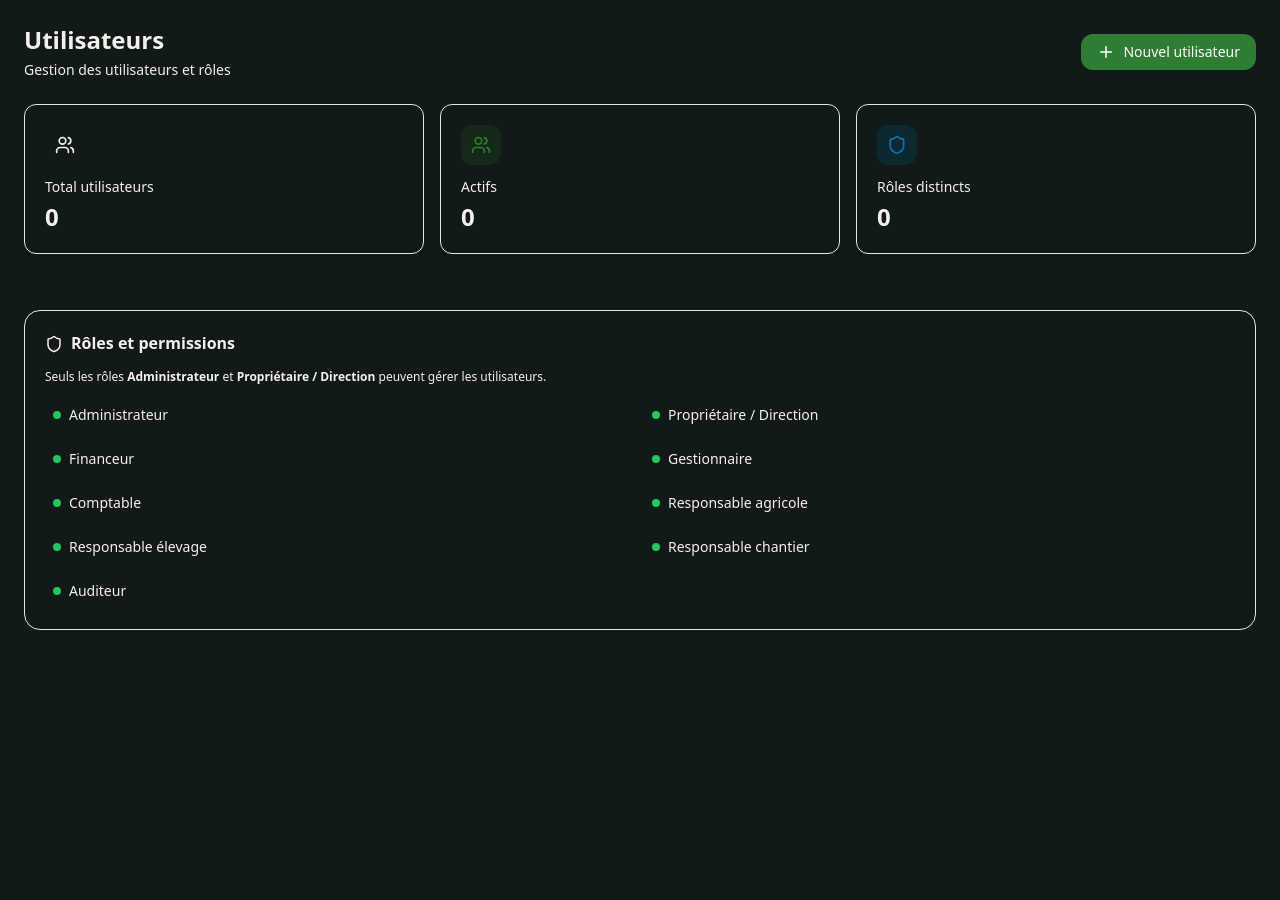
Test case: UsersPage — création utilisateur avec site › TEST 3 — aucun site accessible bloque la création et affiche un message
Click the button "Nouvel utilisateur". click: click(1169, 52)
box: left=1082, top=34, right=1256, bottom=70
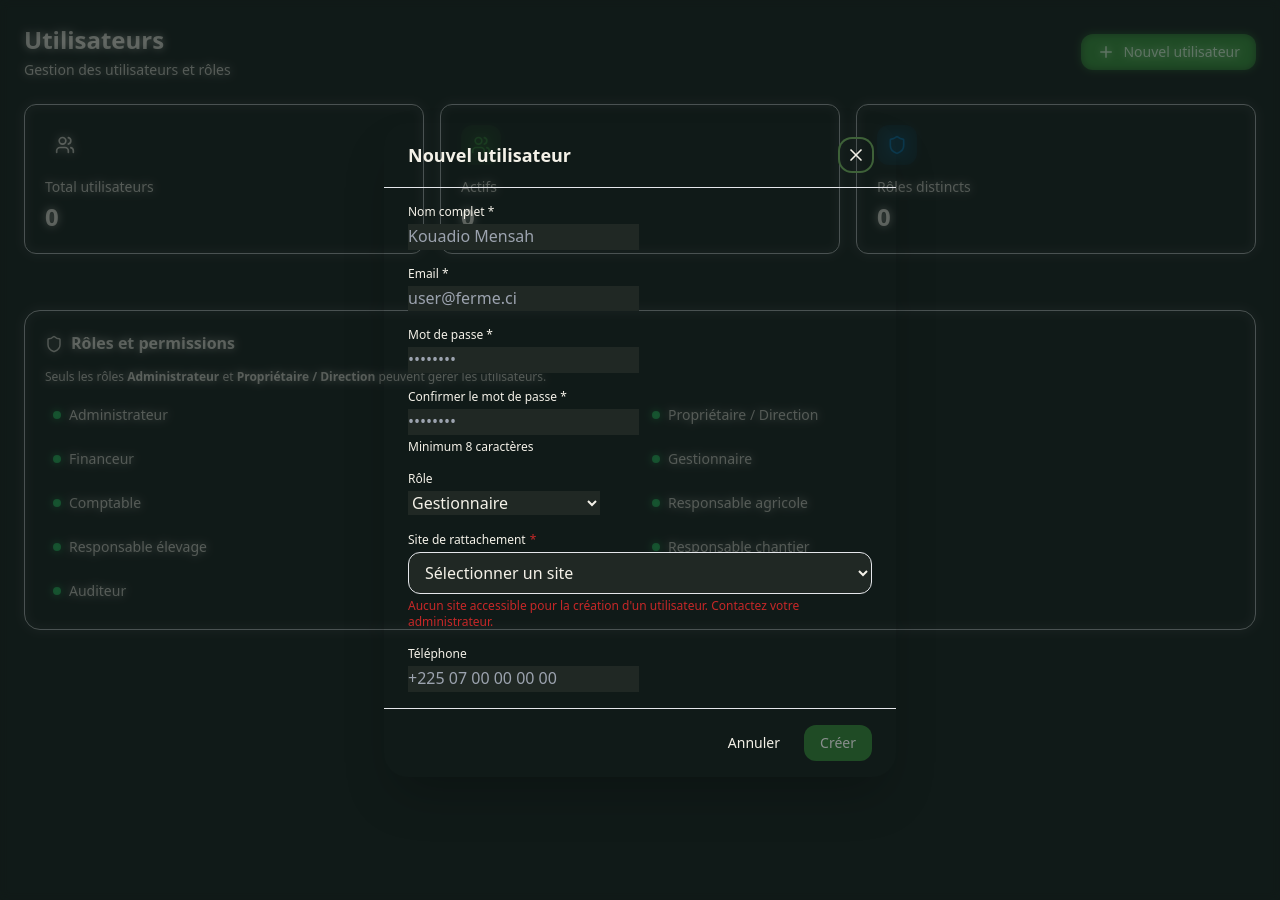
Check: the text "Aucun site accessible pour la création d'un utilisateur" is shown, box left=408, top=597, right=799, bottom=630
Check: the button "Créer" is disabled, box left=804, top=725, right=872, bottom=761
